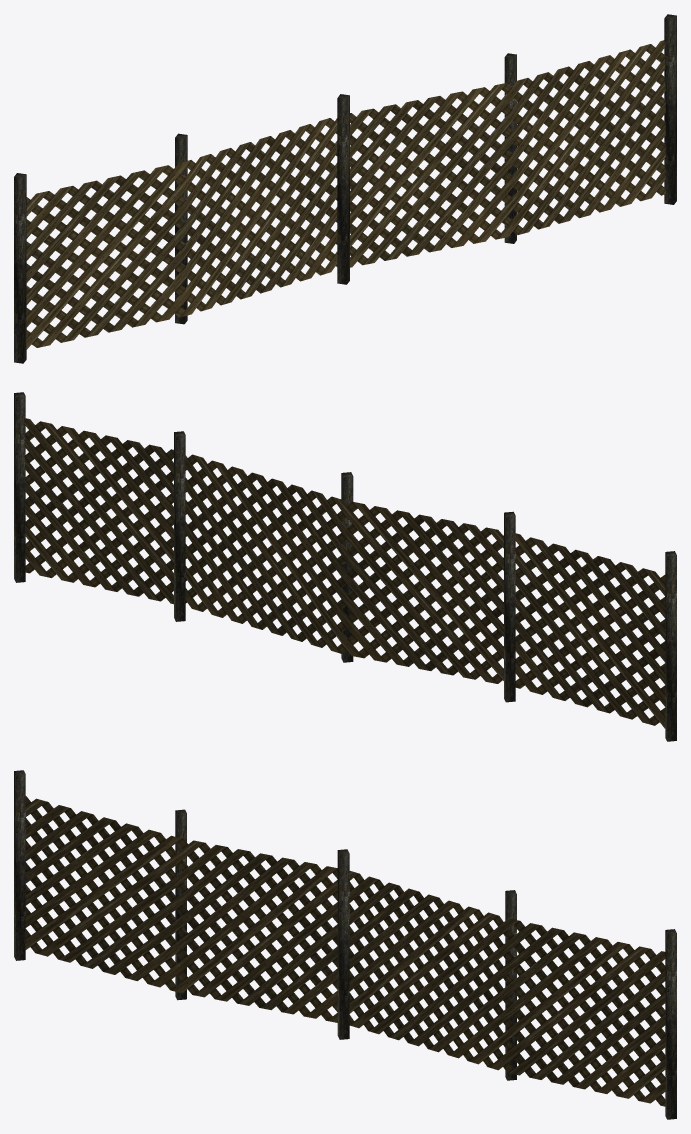
Rendered from GS_MISC_FENCE_01_KWIATEK.glb.
3 renders of one model, top to bottom at view 1: azimuth 30°, elevation 25°; view 2: azimuth 150°, elevation 25°; view 3: azimuth 330°, elevation 25°, orthographic.
Parts seen in each view (by area): view 1: Mesh; view 2: Mesh; view 3: Mesh.
Boxes of the visible parts, left/top/right/bottom form: Mesh: left=14, top=14, right=676, bottom=363; Mesh: left=14, top=392, right=676, bottom=741; Mesh: left=14, top=770, right=676, bottom=1119.
Bounding box in the file's own units: 4.07 × 1.09 × 0.1088.
Materials: 2 (2 with a texture image).
